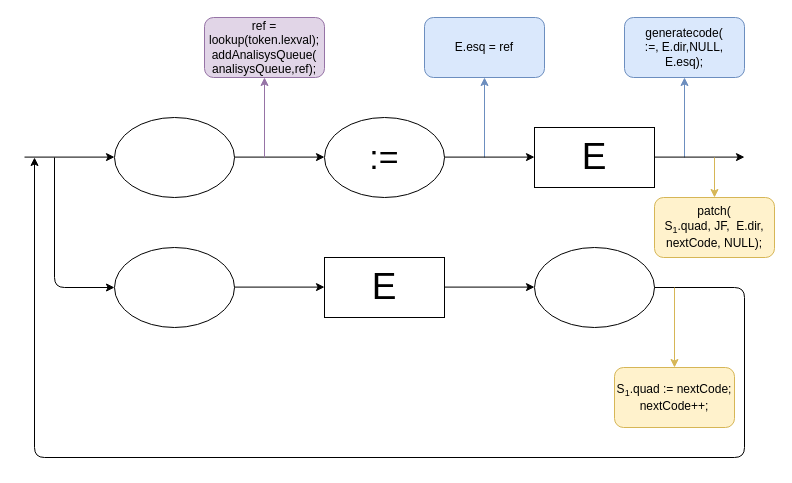
The diagram is 792 pixels wide and 483 high, and some of its shapes have lost their labels. The centre of each missing label's shape, as x and y in pixels:
"id" belongs at (174,157).
"if" belongs at (174,287).
"then" belongs at (594,287).
